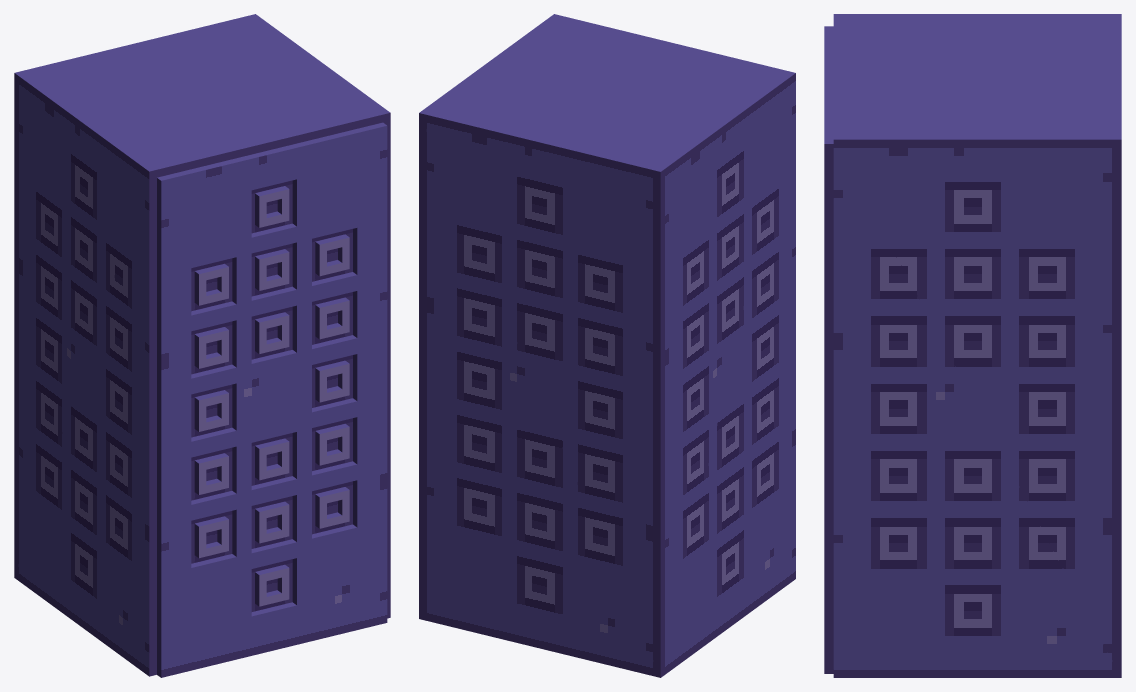
The model's file is 16_bit_doorao.fezao.glb.
3 views of the same model, side by side, from view 1: azimuth 30°, elevation 25°; view 2: azimuth 150°, elevation 25°; view 3: azimuth 270°, elevation 25° (orthographic). The views are drawn at different scales.
Visible parts, largest first — view 1: 16_BIT_DOORAO; view 2: 16_BIT_DOORAO; view 3: 16_BIT_DOORAO.
Boxes of the visible parts, bbox=[...] form: 16_BIT_DOORAO: bbox=[14, 14, 390, 677]; 16_BIT_DOORAO: bbox=[419, 14, 795, 677]; 16_BIT_DOORAO: bbox=[824, 14, 1121, 677].
Size of the model in its own units: 2 by 4 by 2.
Materials: 1 (1 with a texture image).
